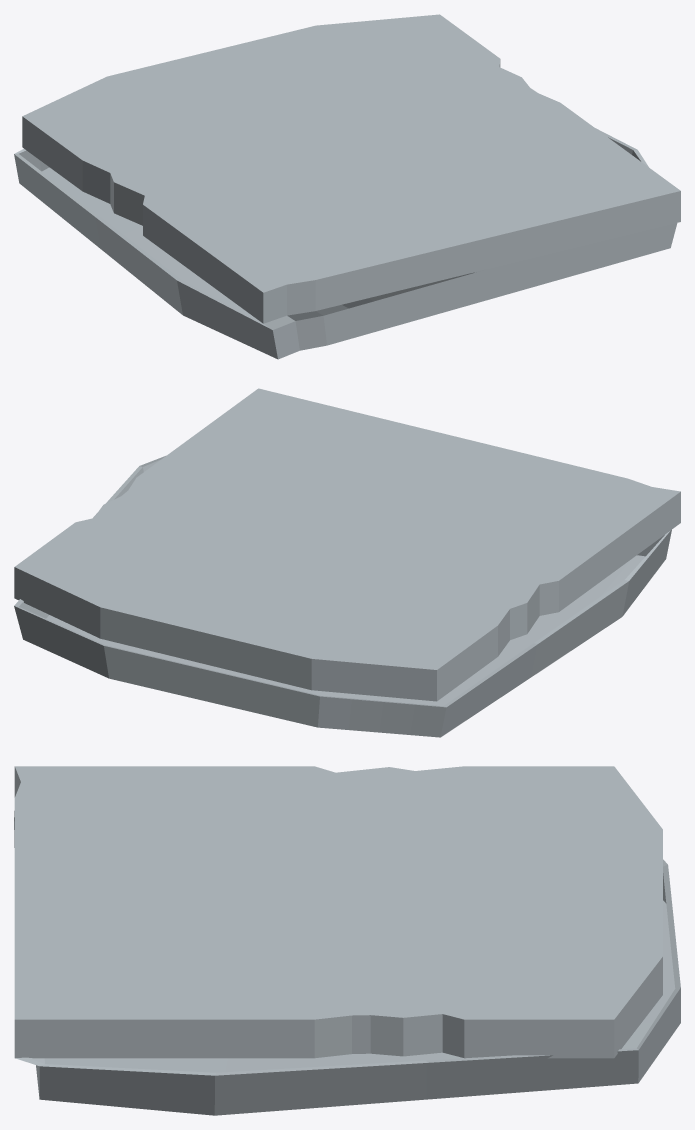
Rendered from CajaPizza_03.fbx.
The picture shows the model from 3 angles, top to bottom: view 1: azimuth 30°, elevation 25°; view 2: azimuth 150°, elevation 25°; view 3: azimuth 270°, elevation 25°; orthographic projection. The views are drawn at different scales.
Visible parts, largest first — view 1: CajaPizza_03; view 2: CajaPizza_03; view 3: CajaPizza_03.
Boxes of the visible parts, x1,y1,x2,y2 form: CajaPizza_03: [14, 14, 680, 359]; CajaPizza_03: [14, 388, 680, 737]; CajaPizza_03: [14, 766, 680, 1115].
Bounding box in the file's own units: 72.52 × 10.35 × 71.3.
